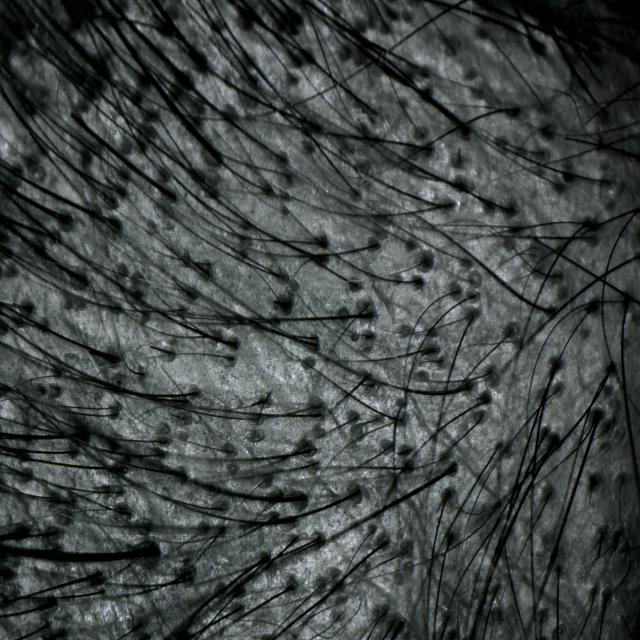roots: (135, 540, 160, 565), (284, 66, 302, 90), (282, 576, 302, 596), (501, 100, 518, 120), (552, 175, 569, 195), (421, 140, 437, 159), (188, 384, 204, 402), (445, 42, 460, 61), (349, 484, 364, 503), (502, 200, 516, 220), (110, 214, 124, 234), (362, 238, 378, 255), (227, 335, 242, 353), (165, 343, 180, 361), (376, 535, 391, 553), (106, 349, 120, 368), (437, 197, 451, 215), (309, 336, 323, 354), (590, 410, 604, 428), (585, 480, 599, 498), (596, 173, 610, 190), (501, 326, 515, 343), (550, 359, 564, 376), (312, 406, 326, 423), (167, 188, 180, 206), (368, 102, 381, 120), (465, 288, 478, 306), (461, 252, 474, 270), (158, 433, 171, 451), (539, 426, 553, 442), (543, 487, 557, 503), (584, 304, 598, 320), (407, 273, 420, 290), (548, 434, 561, 451), (462, 378, 474, 396), (533, 37, 545, 55), (213, 148, 225, 166), (599, 530, 612, 546), (283, 169, 295, 185), (365, 307, 377, 323), (476, 395, 488, 411), (446, 458, 458, 474), (553, 268, 565, 284), (441, 486, 454, 500), (586, 231, 599, 245), (616, 473, 628, 488), (544, 305, 556, 320), (492, 440, 504, 454), (551, 385, 563, 398), (554, 562, 564, 577)
